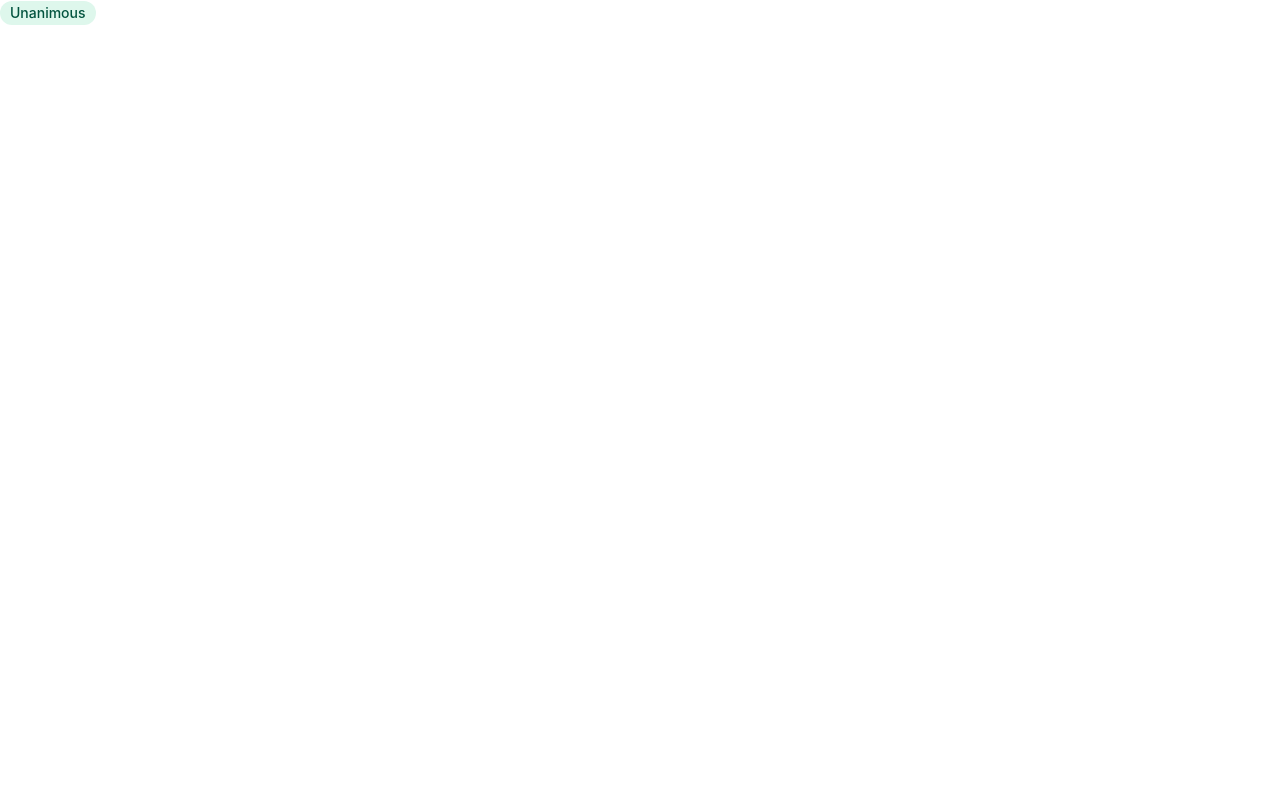
RuleBadge › the Close button dismisses the modal
Click the button with aria-label "Rule:".
click(48, 13)  # box [0,1,96,25]
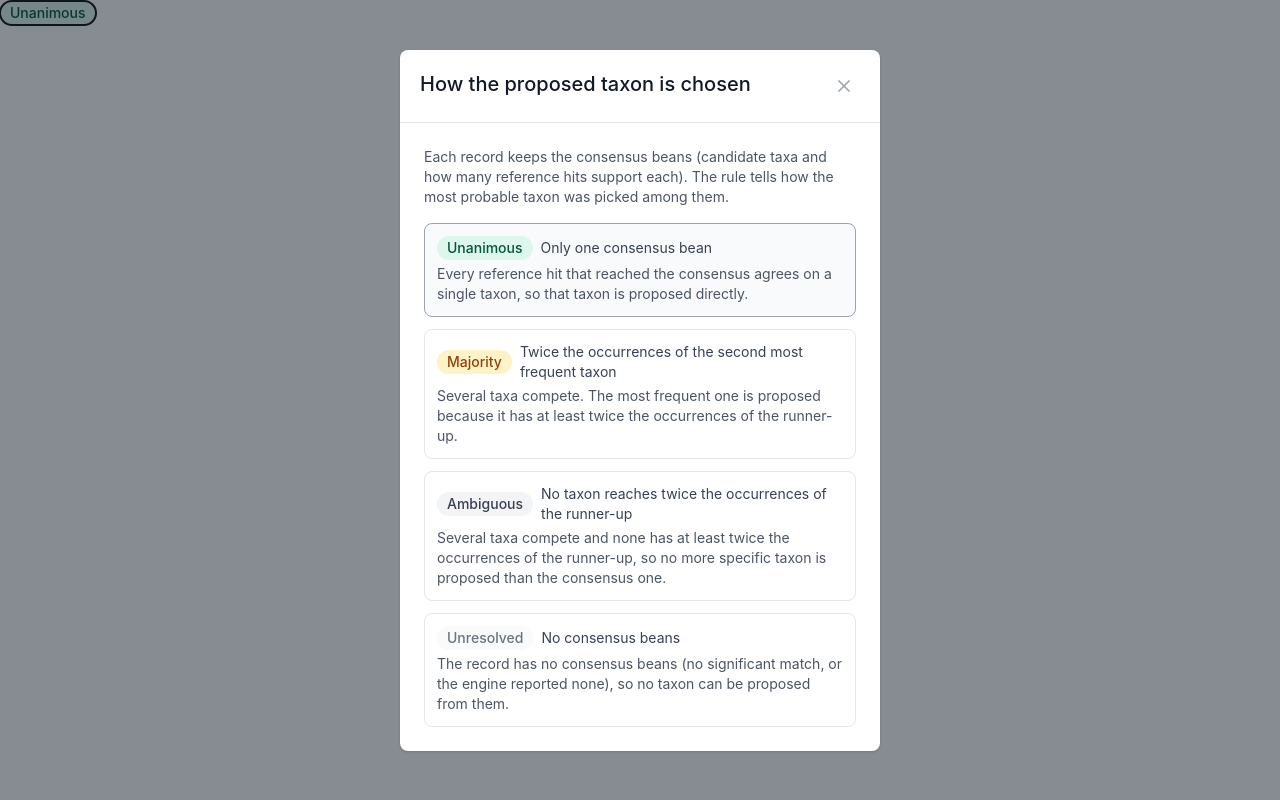
Click the button named "Close".
click(844, 86)  # box [828,70,860,102]
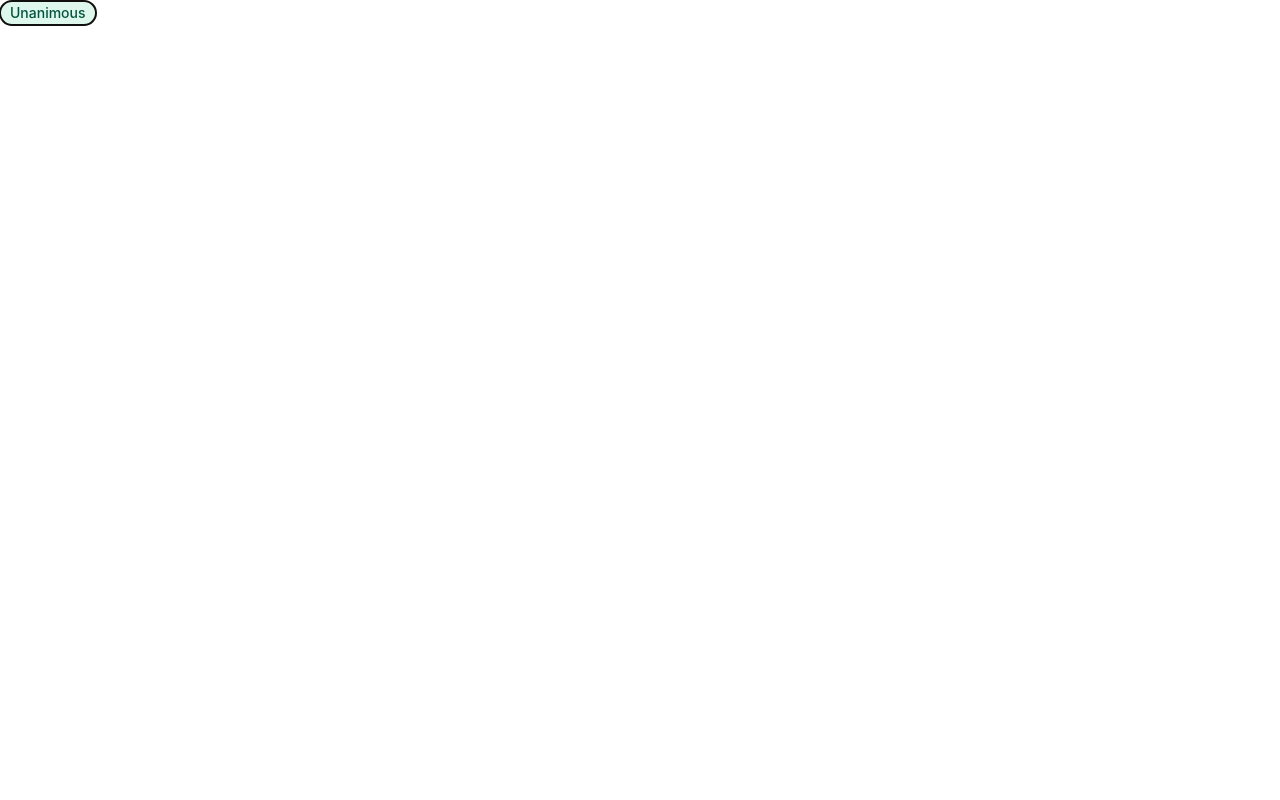
Check: the dialog is gone
